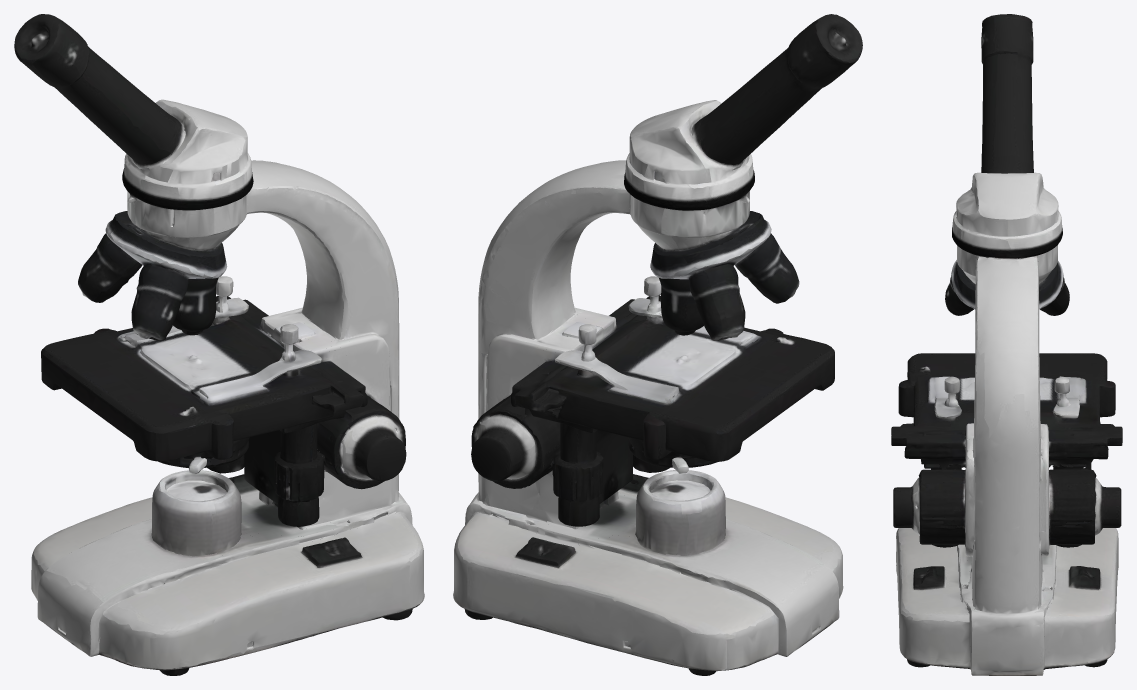
File: parts.glb
3 renders of one model, left to right at view 1: azimuth 30°, elevation 25°; view 2: azimuth 150°, elevation 25°; view 3: azimuth 270°, elevation 25°, orthographic. The views are drawn at different scales.
Bounding box in the file's own units: 0.2808 × 0.45 × 0.1789.
7 materials, 7 textured.
